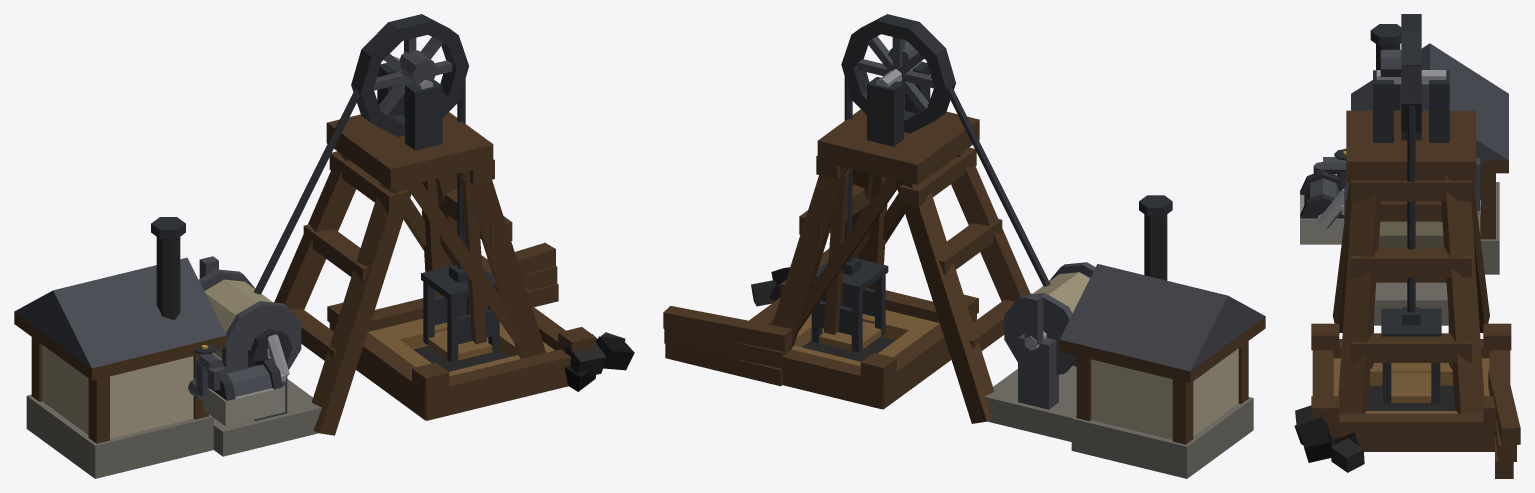
The model's file is mine_headframe.glb.
The picture shows the model from 3 angles, left to right: view 1: azimuth 30°, elevation 25°; view 2: azimuth 150°, elevation 25°; view 3: azimuth 270°, elevation 25°; orthographic projection. The views are drawn at different scales.
Visible parts, largest first — view 1: Cube.067, Cube.061, Cube.014, Cube.029, Cube.060, Cube.006, Cube.013, Cube.017, Cube.055, Cylinder.006, Cube.005, Cube.015 (+39 smaller); view 2: Cube.067, Cube.061, Cube.017, Cube.029, Cube.060, Cube.016, Cube.055, Cube.008, Cube.014, Cube.079, Cube.005, Cube.066 (+37 smaller); view 3: Cube.029, Cube.007, Cube.013, Cube.016, Cube.067, Cube.021, Cube.019, Cube.023, Cube.055, Cube.079, Cylinder.005, Cube.053 (+45 smaller).
Part boxes in pixels (box(x1,y1,x2,y2)): Cube.067: box(14, 257, 225, 368); Cube.061: box(42, 345, 193, 438); Cube.014: box(311, 183, 414, 435); Cube.029: box(326, 112, 493, 189); Cube.060: box(26, 394, 213, 478); Cube.006: box(426, 349, 570, 420); Cube.013: box(462, 171, 545, 358); Cube.017: box(274, 152, 356, 309); Cube.055: box(213, 379, 321, 456); Cylinder.006: box(222, 301, 301, 371); Cube.005: box(329, 323, 426, 420); Cube.015: box(411, 182, 517, 344); Cube.067: box(1060, 264, 1265, 371); Cube.061: box(1091, 348, 1238, 439); Cube.017: box(894, 178, 994, 423); Cube.029: box(817, 109, 979, 184); Cube.060: box(1071, 397, 1253, 478); Cube.016: box(772, 166, 847, 348); Cube.055: box(984, 365, 1076, 441); Cube.008: box(782, 349, 882, 409); Cube.014: box(951, 148, 1029, 301); Cube.079: box(663, 306, 791, 351); Cube.005: box(883, 314, 976, 409); Cube.066: box(1059, 316, 1265, 383); Cube.029: box(1346, 110, 1476, 182); Cube.007: box(1327, 413, 1495, 451); Cube.013: box(1338, 175, 1381, 413); Cube.016: box(1441, 175, 1484, 413); Cube.067: box(1351, 43, 1508, 160); Cube.021: box(1351, 247, 1471, 277); Cube.019: box(1351, 333, 1471, 362); Cube.023: box(1351, 180, 1471, 201); Cube.055: box(1374, 282, 1448, 325); Cube.079: box(1488, 369, 1520, 445); Cylinder.005: box(1379, 221, 1443, 247); Cube.053: box(1381, 308, 1441, 336).
Size of the model in its own units: 136 by 87.02 by 48.66.
